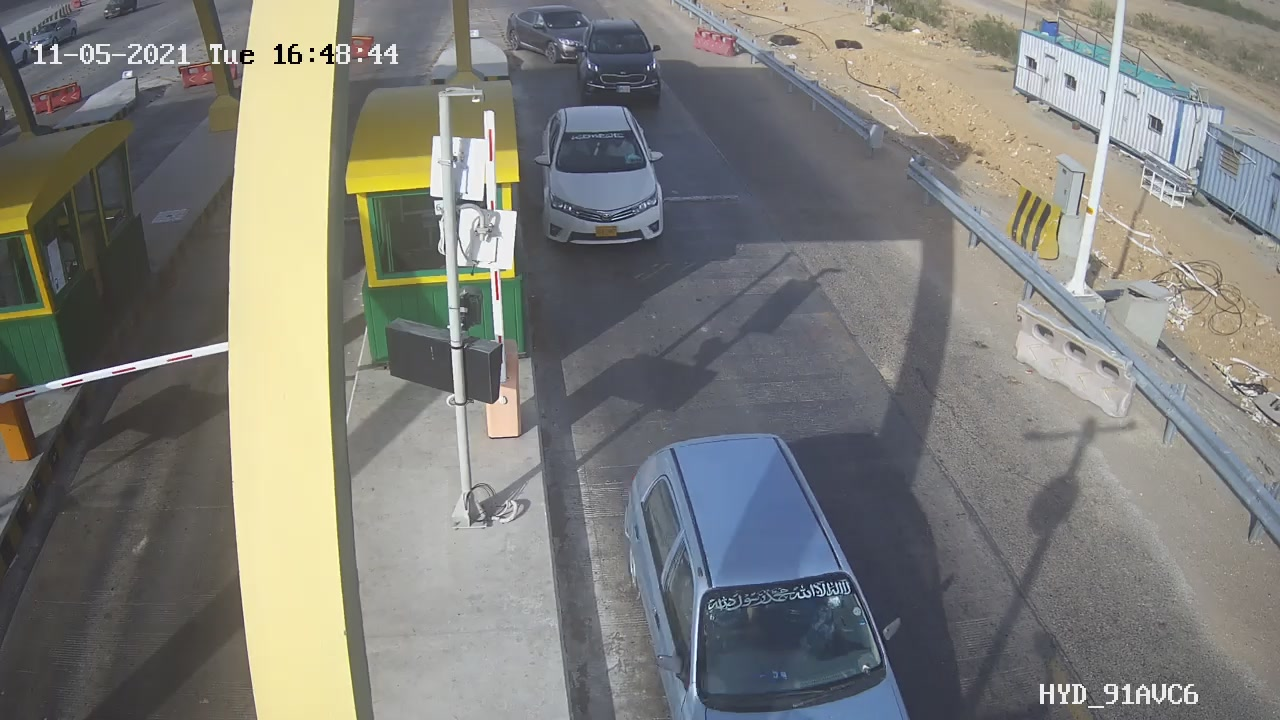F1: (527, 95, 677, 261), (569, 5, 681, 114)
